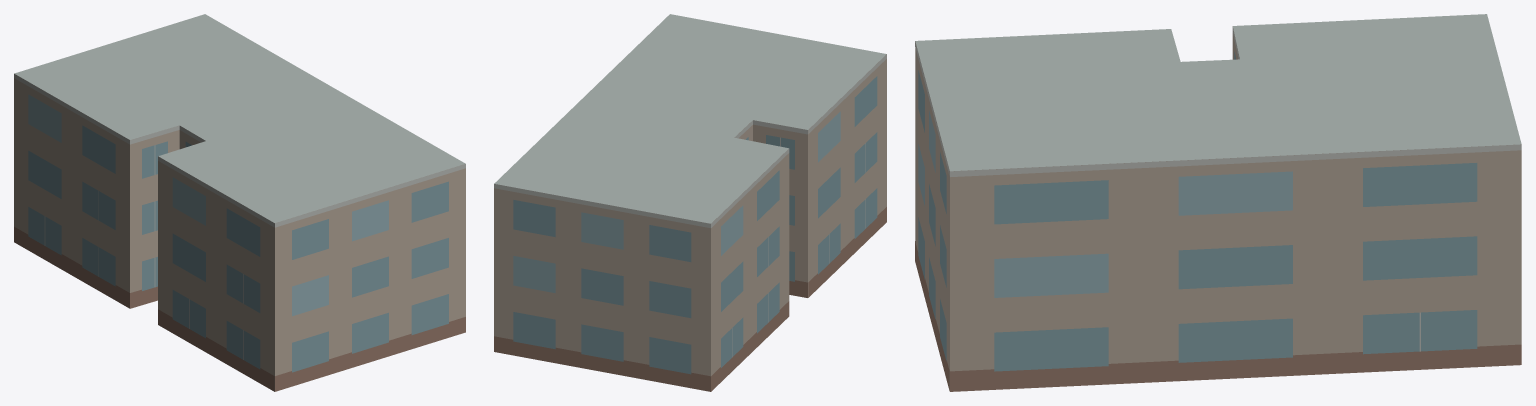
File: survey-upis-32558752.glb
The picture shows the model from 3 angles, left to right: view 1: azimuth 30°, elevation 25°; view 2: azimuth 150°, elevation 25°; view 3: azimuth 270°, elevation 25°; orthographic projection. The views are drawn at different scales.
Visible parts, largest first — view 1: survey-upis-32558752.tmp; view 2: survey-upis-32558752.tmp; view 3: survey-upis-32558752.tmp.
Boxes of the visible parts, bbox=[...] form: survey-upis-32558752.tmp: bbox=[14, 14, 465, 391]; survey-upis-32558752.tmp: bbox=[494, 14, 886, 391]; survey-upis-32558752.tmp: bbox=[915, 14, 1521, 391].
Bounding box in the file's own units: 14 × 9.15 × 22.81.
